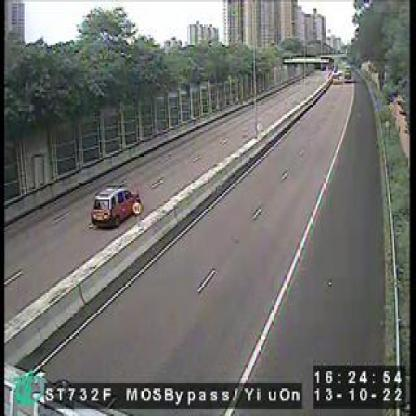Car: (90, 186, 142, 232)
